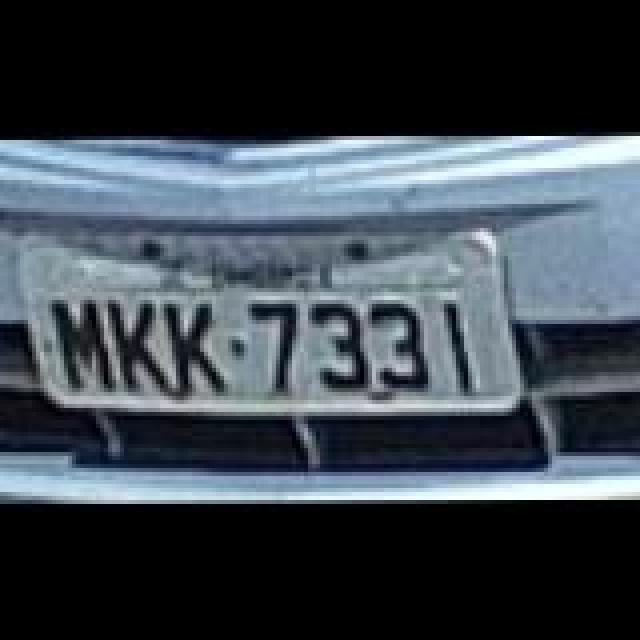1: (442, 300, 478, 392)
3: (366, 300, 434, 392), (308, 300, 372, 392)
7: (250, 300, 310, 392)
K: (164, 298, 236, 394), (106, 296, 174, 392)
M: (48, 296, 120, 392)
